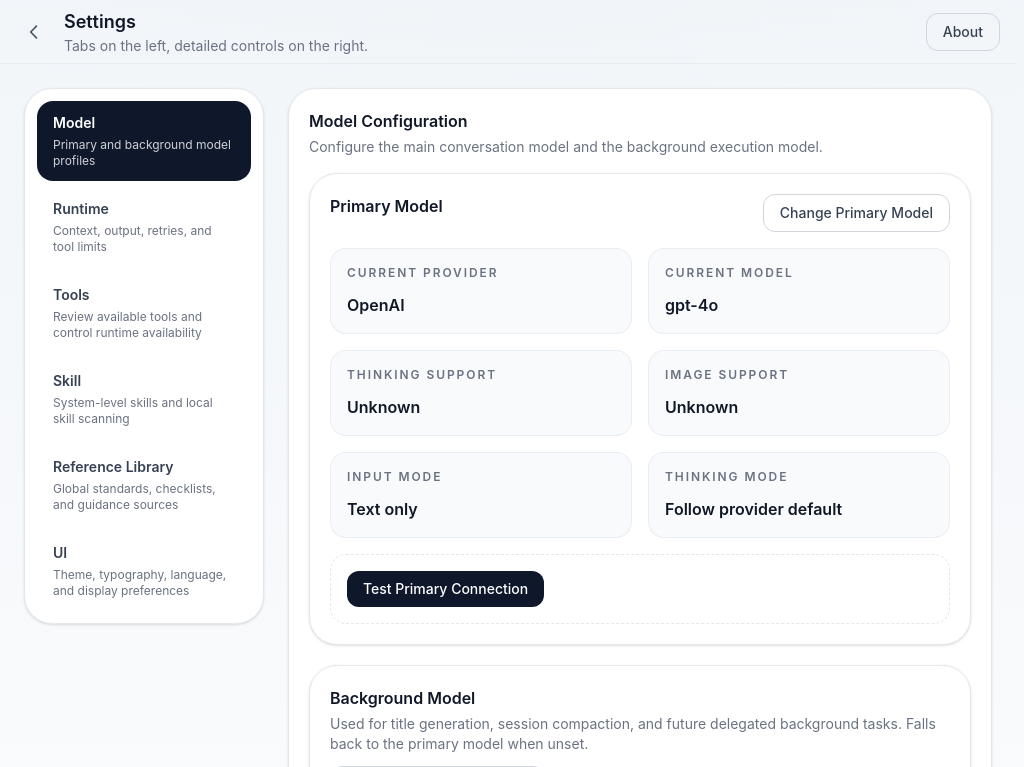
SettingsPage › renders all configured system skill roots
Click the button "Skill System-level skills and local skill scanning".
click(144, 399)  # box left=37, top=359, right=251, bottom=439
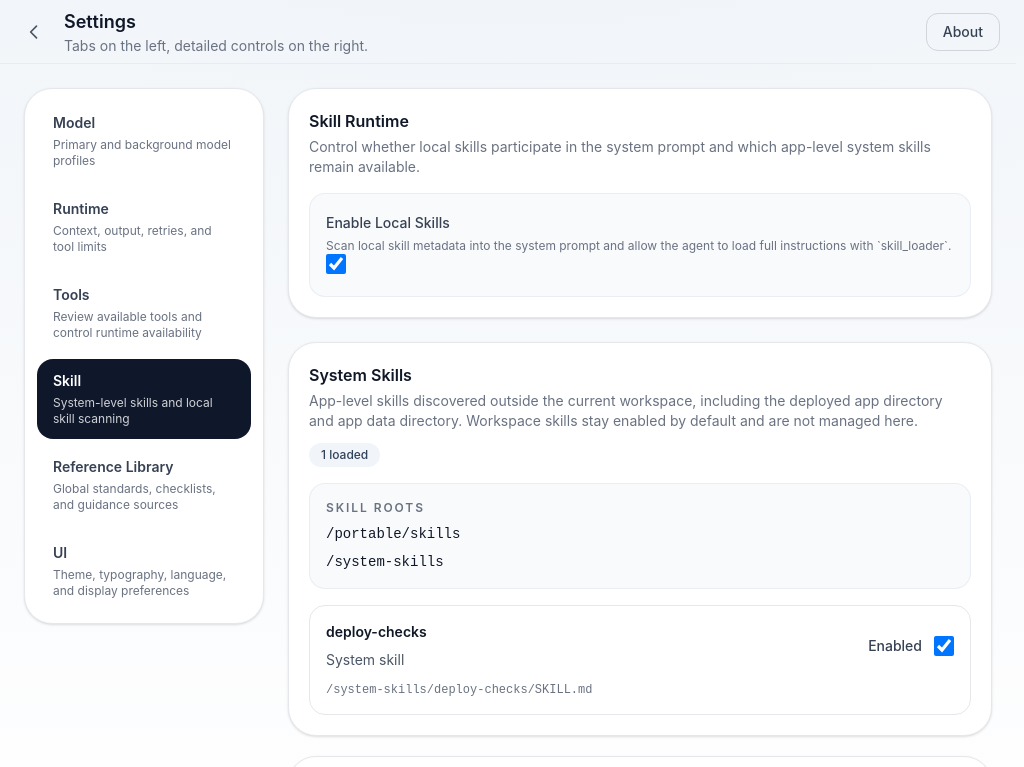
Now the text "/portable/skills" is shown, box left=326, top=526, right=460, bottom=542
Now the text "/system-skills" is shown, box left=326, top=554, right=444, bottom=570
